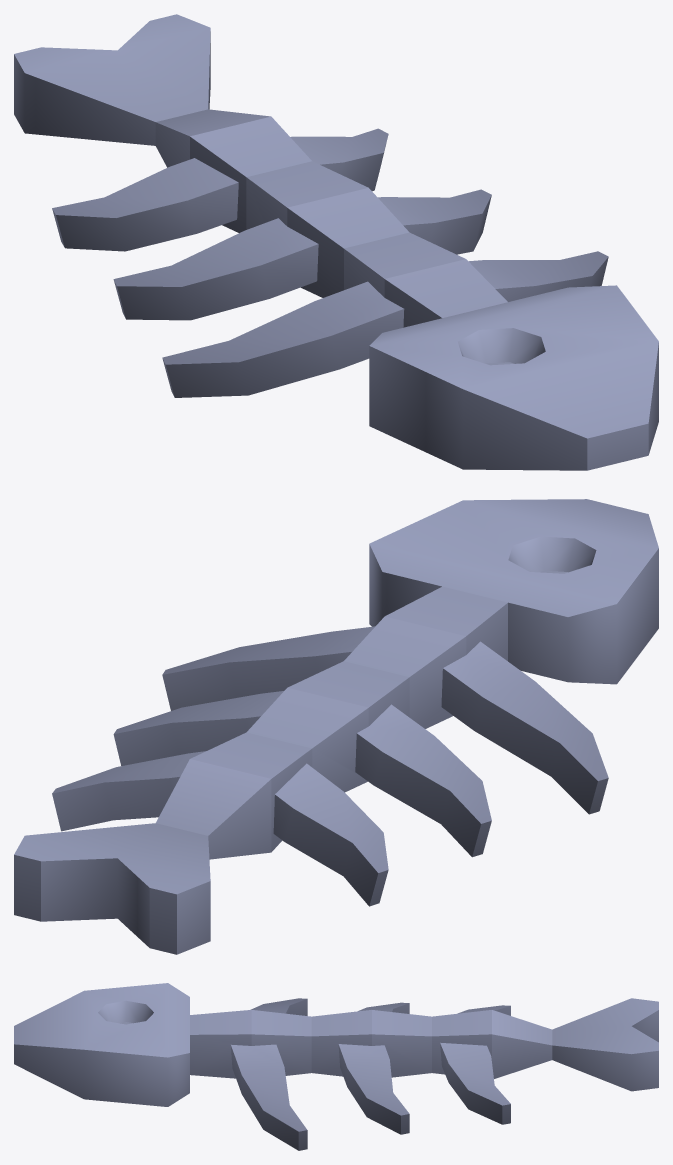
File: fish-bones.glb
The picture shows the model from 3 angles, top to bottom: view 1: azimuth 30°, elevation 25°; view 2: azimuth 150°, elevation 25°; view 3: azimuth 270°, elevation 25°; orthographic projection. The views are drawn at different scales.
Visible parts, largest first — view 1: fish-bones; view 2: fish-bones; view 3: fish-bones.
Boxes of the visible parts, x1,y1,x2,y2 form: fish-bones: [14, 14, 658, 470]; fish-bones: [14, 499, 658, 954]; fish-bones: [14, 983, 658, 1150].
Size of the model in its own units: 0.3113 by 0.0726 by 0.6358.
